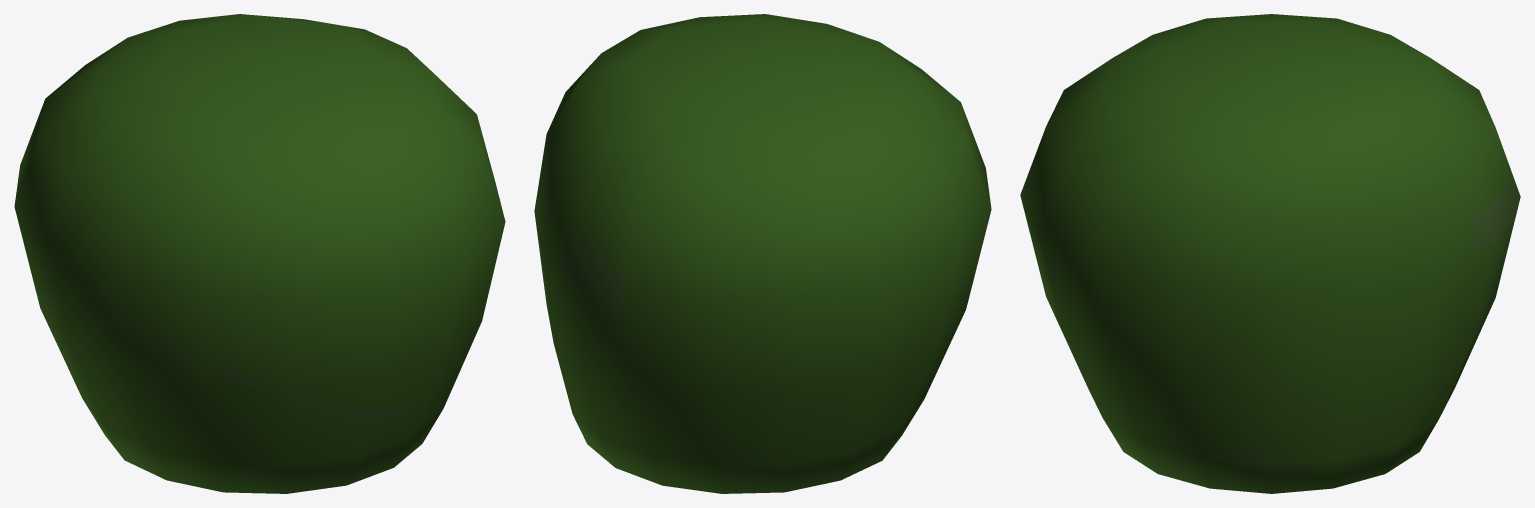
The model's file is BushObject.FBX.
3 renders of one model, left to right at view 1: azimuth 30°, elevation 25°; view 2: azimuth 150°, elevation 25°; view 3: azimuth 270°, elevation 25°, orthographic.
Visible parts, largest first — view 1: Sphere001; view 2: Sphere001; view 3: Sphere001.
Part boxes in pixels (x1,y1,x2,y2): Sphere001: (14,14,505,493); Sphere001: (534,14,991,493); Sphere001: (1020,14,1520,493).
Bounding box in the file's own units: 17.31 × 18.55 × 15.52.
1 material, 1 textured.
